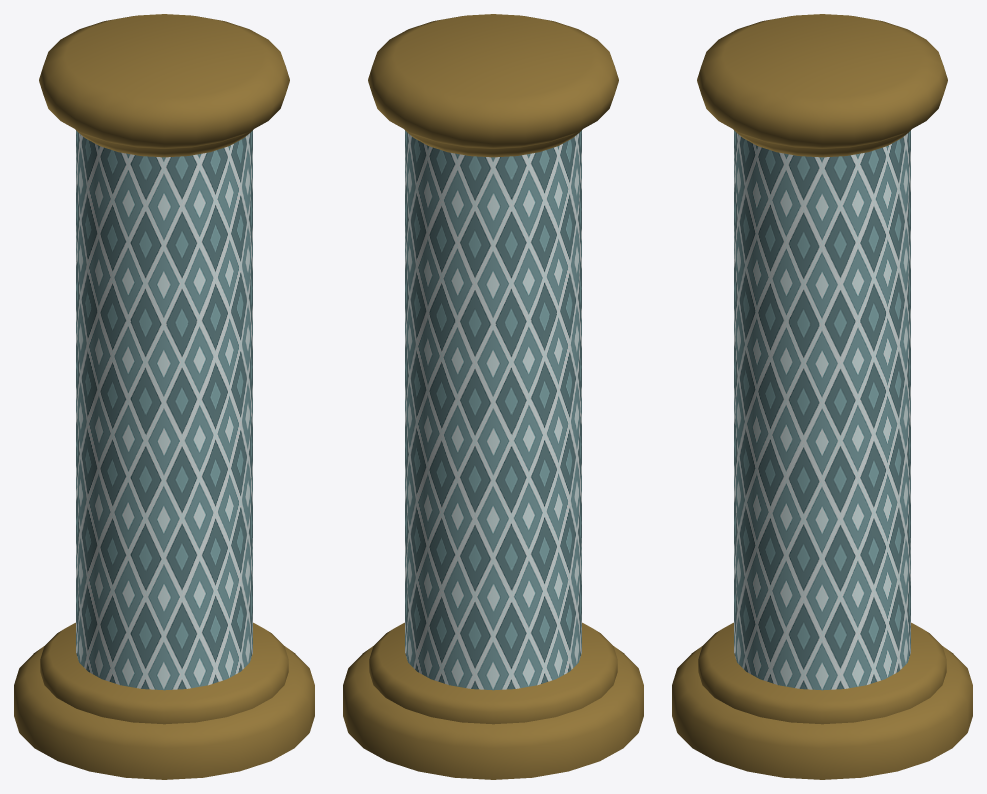
The model's file is DI_010_pillar.glb.
3 renders of one model, left to right at view 1: azimuth 30°, elevation 25°; view 2: azimuth 150°, elevation 25°; view 3: azimuth 270°, elevation 25°, orthographic.
Visible parts, largest first — view 1: Pillar, StandBottom, StandTop; view 2: Pillar, StandBottom, StandTop; view 3: Pillar, StandBottom, StandTop.
Boxes of the visible parts, <box> form: Pillar: <box>76,130,252,690</box>; StandBottom: <box>14,622,314,779</box>; StandTop: <box>39,14,289,157</box>; Pillar: <box>405,130,581,690</box>; StandBottom: <box>343,622,643,779</box>; StandTop: <box>368,14,618,157</box>; Pillar: <box>734,130,910,690</box>; StandBottom: <box>672,622,972,779</box>; StandTop: <box>697,14,947,157</box>.
Size of the model in its own units: 0.7735 by 1.87 by 0.7735.
2 materials, 1 textured.
